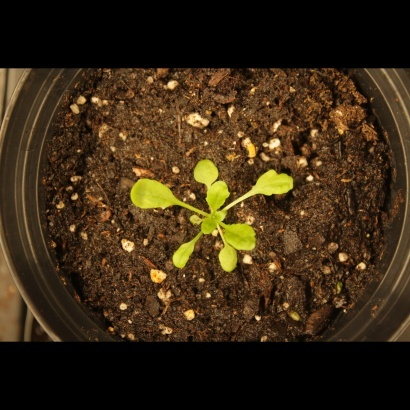leaf: (124, 174, 181, 220), (252, 165, 299, 200), (219, 221, 258, 252), (190, 156, 223, 188), (168, 237, 197, 272), (203, 180, 232, 211), (216, 242, 242, 275), (198, 216, 221, 239)
